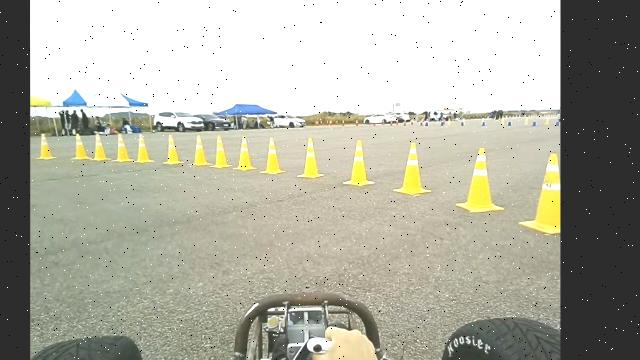yellow cone: (519, 152, 560, 235), (455, 146, 504, 213), (392, 142, 432, 195), (342, 139, 375, 186), (296, 137, 324, 178), (259, 137, 286, 174), (232, 135, 256, 171), (188, 134, 212, 166), (210, 134, 232, 168), (162, 133, 184, 165), (134, 133, 154, 164), (112, 133, 133, 162), (90, 132, 111, 161), (36, 132, 57, 160), (70, 132, 91, 160)
